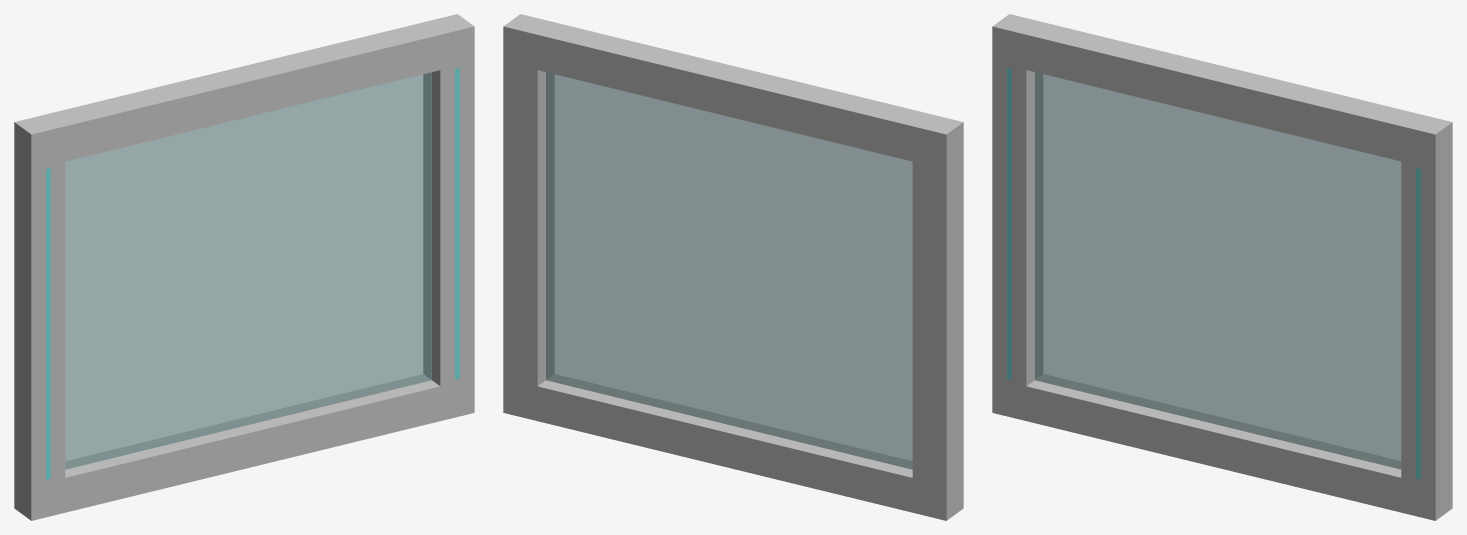
The model's file is Wall_Window_Middle.fbx.
3 renders of one model, left to right at view 1: azimuth 30°, elevation 25°; view 2: azimuth 150°, elevation 25°; view 3: azimuth 330°, elevation 25°, orthographic.
Visible parts, largest first — view 1: Wall_Window_Middle; view 2: Wall_Window_Middle; view 3: Wall_Window_Middle.
Boxes of the visible parts, left/top/right/bottom form: Wall_Window_Middle: left=14, top=14, right=474, bottom=520; Wall_Window_Middle: left=503, top=14, right=963, bottom=520; Wall_Window_Middle: left=992, top=14, right=1452, bottom=520.
Size of the model in its own units: 3 by 0.2 by 2.5.
